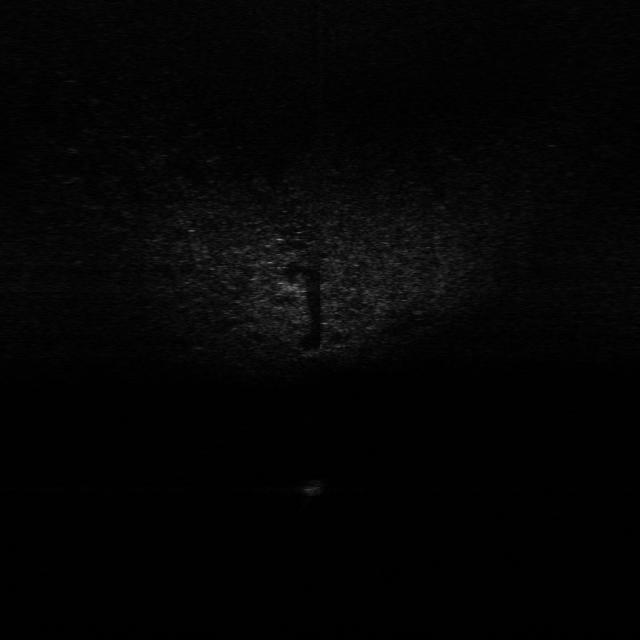cylinder: (292, 471, 334, 501)
